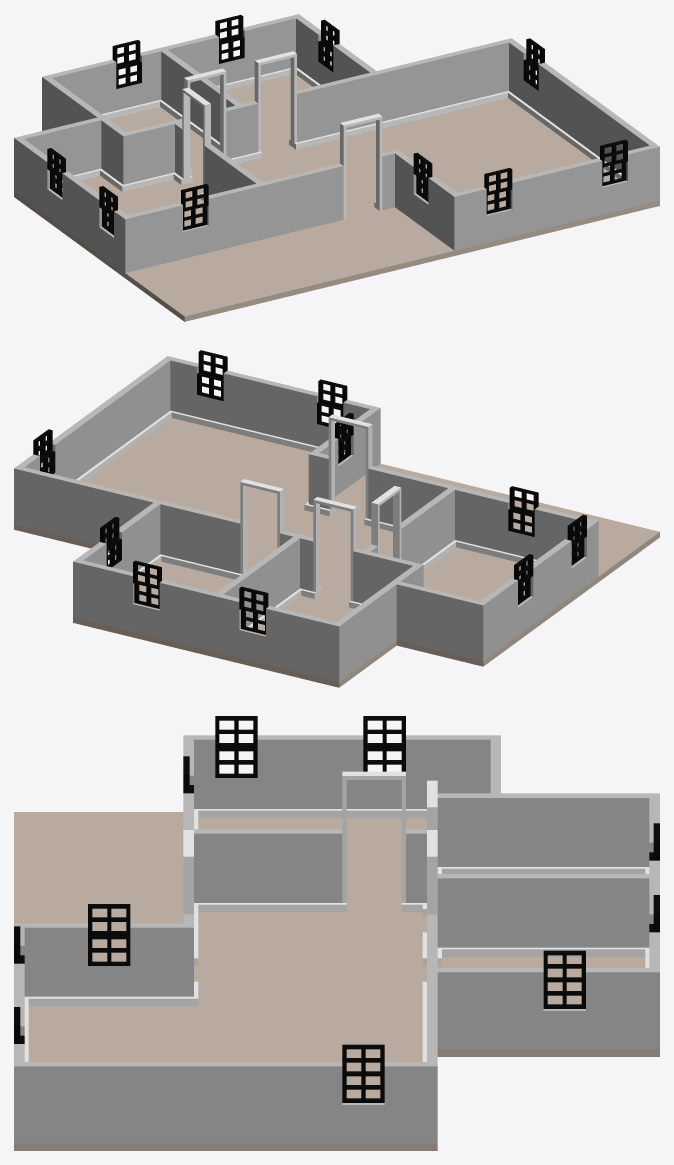
File: bottom.glb
The picture shows the model from 3 angles, top to bottom: view 1: azimuth 30°, elevation 25°; view 2: azimuth 150°, elevation 25°; view 3: azimuth 270°, elevation 25°; orthographic projection. The views are drawn at different scales.
Visible parts, largest first — view 1: Walls, Floor, Trim, Door.003, Door, Door.001, Window, Window.001, Door.002, Window.005, Window.006, Window.004 (+5 smaller); view 2: Walls, Floor, Trim, Door, Door.002, Door.001, Door.003, Window.006, Window.004, Window.001, Window, Window.005 (+5 smaller); view 3: Walls, Floor, Trim, Door.003, Window.007, Window.009, Window.003, Window.002, Window.008, Door, Door.001.
Part boxes in pixels (x1=…): Walls: x1=14, y1=14, x2=659, y2=272; Floor: x1=14, y1=75, x2=659, y2=321; Trim: x1=55, y1=67, x2=621, y2=207; Door.003: x1=182, y1=87, x2=210, y2=193; Door: x1=340, y1=113, x2=382, y2=219; Door.001: x1=254, y1=51, x2=296, y2=151; Window: x1=112, y1=40, x2=141, y2=88; Window.001: x1=215, y1=15, x2=244, y2=63; Door.002: x1=184, y1=68, x2=226, y2=154; Window.005: x1=484, y1=168, x2=512, y2=214; Window.006: x1=181, y1=184, x2=208, y2=230; Window.004: x1=600, y1=139, x2=627, y2=185; Walls: x1=14, y1=356, x2=598, y2=681; Floor: x1=14, y1=418, x2=659, y2=687; Trim: x1=76, y1=410, x2=535, y2=627; Door: x1=328, y1=414, x2=372, y2=518; Door.002: x1=313, y1=497, x2=356, y2=601; Door.001: x1=240, y1=479, x2=283, y2=573; Door.003: x1=371, y1=486, x2=401, y2=558; Window.006: x1=508, y1=486, x2=538, y2=536; Window.004: x1=197, y1=350, x2=227, y2=400; Window.001: x1=133, y1=560, x2=161, y2=608; Window: x1=239, y1=586, x2=268, y2=634; Window.005: x1=317, y1=379, x2=347, y2=429; Walls: x1=14, y1=735, x2=659, y2=1143; Floor: x1=14, y1=812, x2=659, y2=1150; Trim: x1=24, y1=809, x2=649, y2=1061; Door.003: x1=342, y1=771, x2=405, y2=902; Window.007: x1=215, y1=716, x2=257, y2=777; Window.009: x1=88, y1=904, x2=130, y2=965; Window.003: x1=342, y1=1044, x2=384, y2=1102; Window.002: x1=543, y1=950, x2=585, y2=1008; Window.008: x1=363, y1=716, x2=405, y2=771; Door: x1=183, y1=830, x2=193, y2=914; Door.001: x1=427, y1=830, x2=437, y2=914.
Bounding box in the file's own units: 37 × 7.4 × 30.5.
16 materials, 1 textured.
